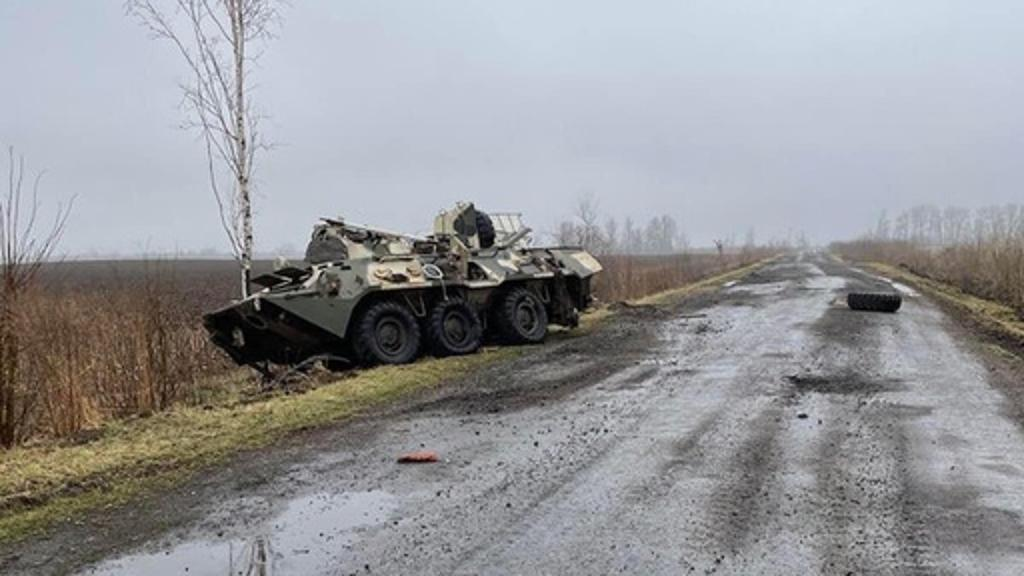APC-IFV: (190, 192, 606, 368)
